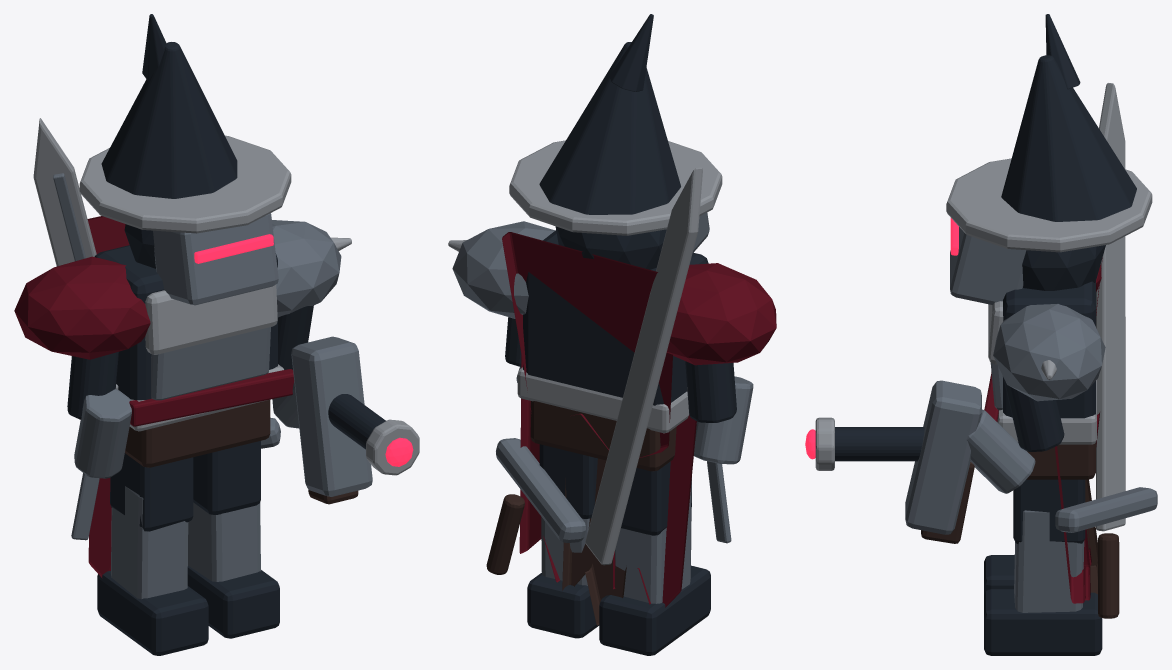
File: DarkHunter_FirstPass.fbx
The picture shows the model from 3 angles, left to right: view 1: azimuth 30°, elevation 25°; view 2: azimuth 150°, elevation 25°; view 3: azimuth 270°, elevation 25°; orthographic projection. The views are drawn at different scales.
Visible parts, largest first — view 1: PointedHunterHelm, LeftMantle, HunterHelmBrim, HunterPistolBody, BeakedMask, UpperChestPlate, LeftGreave, LeftBoot, LowerChestPlate, Waist, RightPauldron, RightGreave (+21 smaller); view 2: PointedHunterHelm, GreatswordBlade, BackMantle, LeanCuirass, LeftMantle, HunterHelmBrim, LeftBoot, RightPauldron, Waist, LeftCoatTail, GreatswordGuard, Belt (+14 smaller); view 3: PointedHunterHelm, HunterHelmBrim, GreatswordBlade, RightPauldron, HunterPistolBody, RightBoot, RightGreave, BeakedMask, RightBracer, LeanCuirass, HunterPistolBarrel, ShadowedHead (+13 smaller).
Boxes of the visible parts, x1,y1,x2,y2 form: PointedHunterHelm: (101, 42, 237, 198); LeftMantle: (14, 256, 150, 359); HunterHelmBrim: (79, 135, 291, 233); HunterPistolBody: (291, 336, 372, 496); BeakedMask: (153, 213, 278, 305); UpperChestPlate: (145, 284, 277, 354); LeftGreave: (111, 486, 188, 599); LeftBoot: (97, 571, 208, 655); LowerChestPlate: (151, 327, 270, 400); Waist: (125, 400, 270, 467); RightPauldron: (272, 220, 341, 317); RightGreave: (188, 502, 260, 581); PointedHunterHelm: (539, 42, 680, 214); GreatswordBlade: (585, 167, 702, 565); BackMantle: (502, 232, 672, 458); LeanCuirass: (523, 230, 708, 405); LeftMantle: (666, 263, 776, 365); HunterHelmBrim: (509, 140, 722, 235); LeftBoot: (599, 565, 710, 655); RightPauldron: (452, 221, 555, 318); Waist: (530, 401, 676, 471); LeftCoatTail: (613, 414, 696, 607); GreatswordGuard: (496, 438, 585, 542); Belt: (517, 367, 688, 433); PointedHunterHelm: (1001, 55, 1136, 221); HunterHelmBrim: (946, 158, 1152, 252); GreatswordBlade: (1096, 83, 1125, 531); RightPauldron: (993, 304, 1105, 401); HunterPistolBody: (905, 380, 981, 534); RightBoot: (984, 589, 1102, 655); RightGreave: (1014, 510, 1084, 612); BeakedMask: (950, 227, 1026, 304); RightBracer: (966, 409, 1035, 493); LeanCuirass: (1003, 281, 1095, 418); HunterPistolBarrel: (835, 427, 924, 461); ShadowedHead: (1022, 245, 1105, 290).
Bounding box in the file's own units: 172 × 312 × 167.
